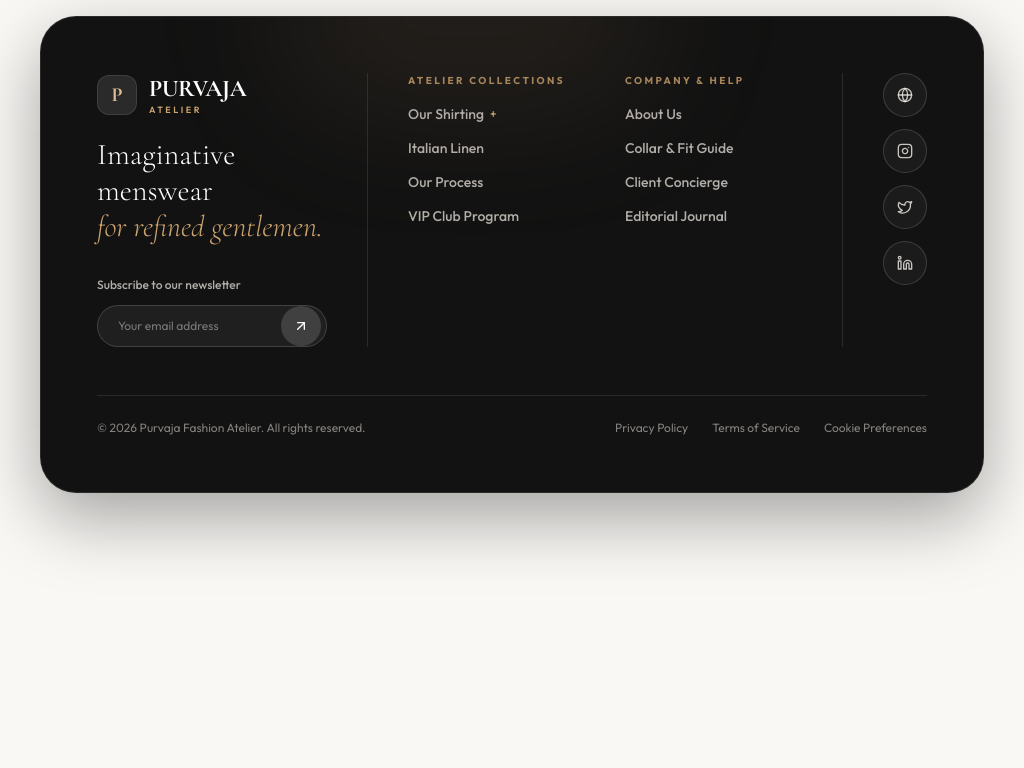
Test case: Footer newsletter consent › keeps the entered address available for retry after failure
Type "retry@example.test" into the field labelled "email address" at (212, 326), box [97, 304, 327, 346]
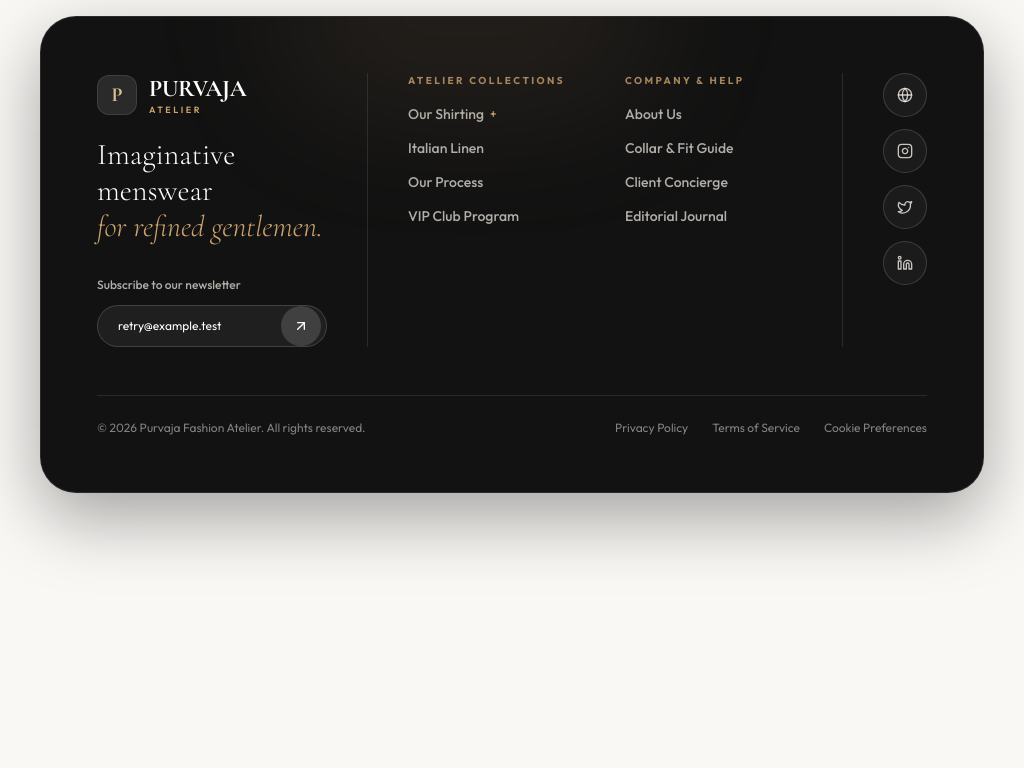
Submit the form named "Email address", box [97, 304, 327, 346]
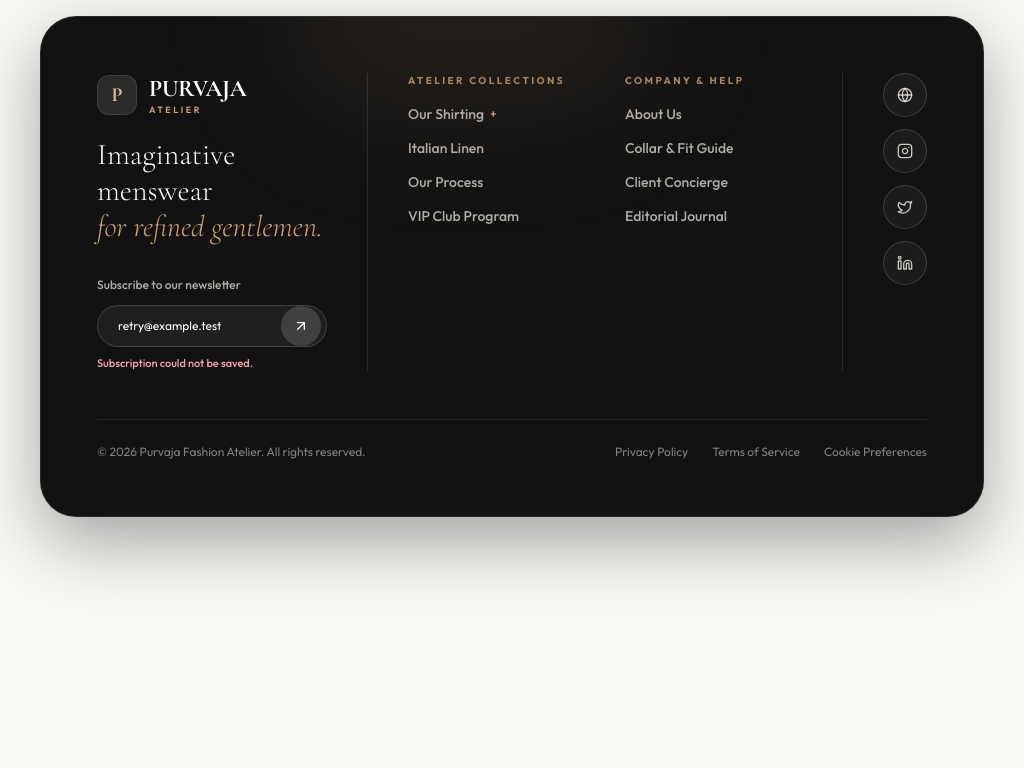
Now the text "Subscription could not be saved." is shown, box [97, 356, 253, 370]
